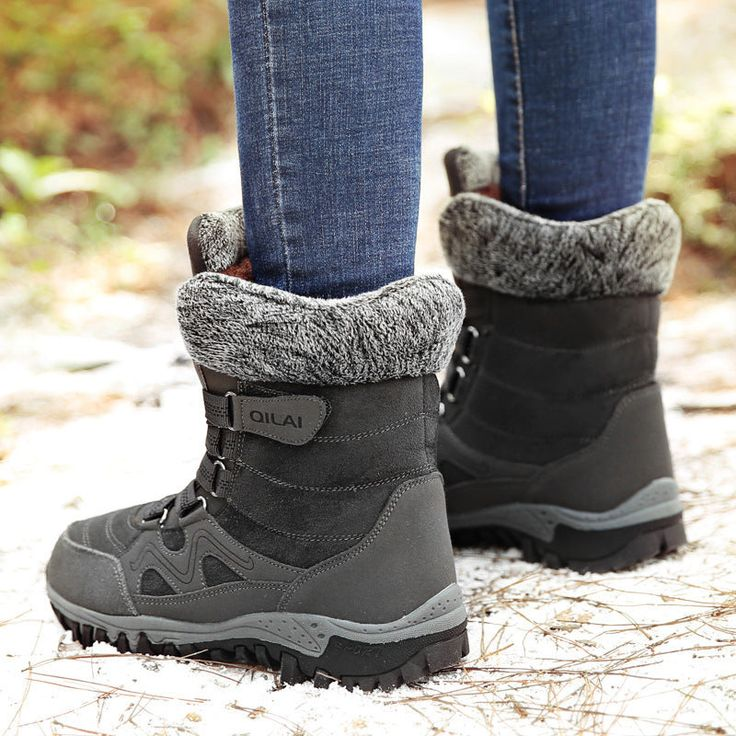gamuza: (205, 381, 437, 571)
